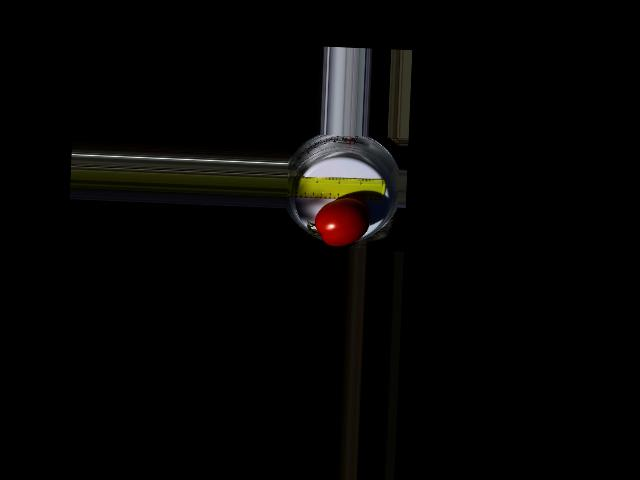tomato: (313, 195, 370, 248)
